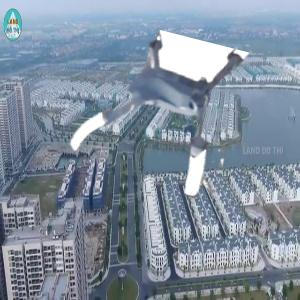drone: (72, 32, 236, 196)
